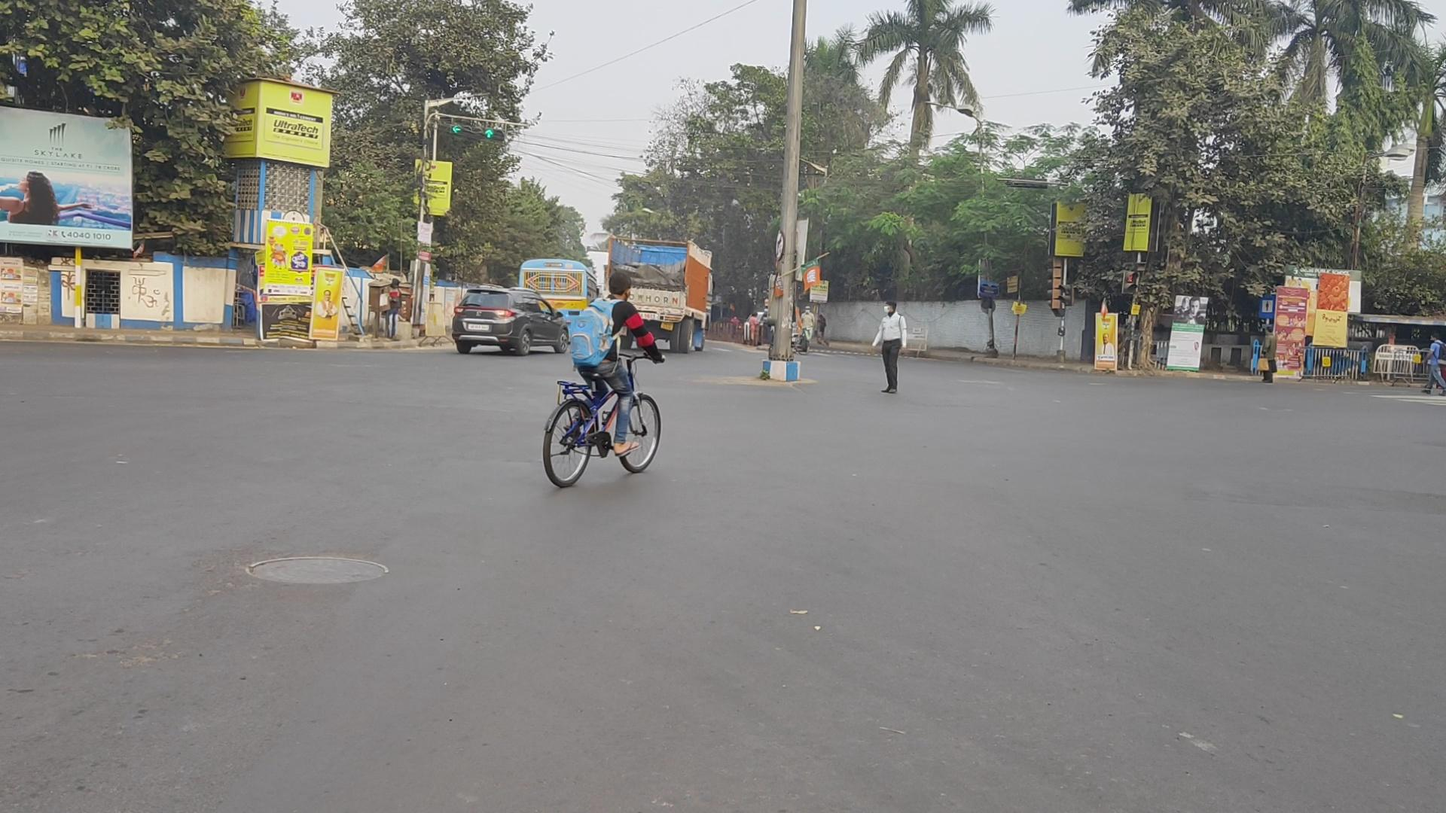Bus: (520, 258, 598, 343)
bike: (544, 273, 666, 488)
car: (452, 285, 569, 355)
truck: (607, 233, 714, 354)
